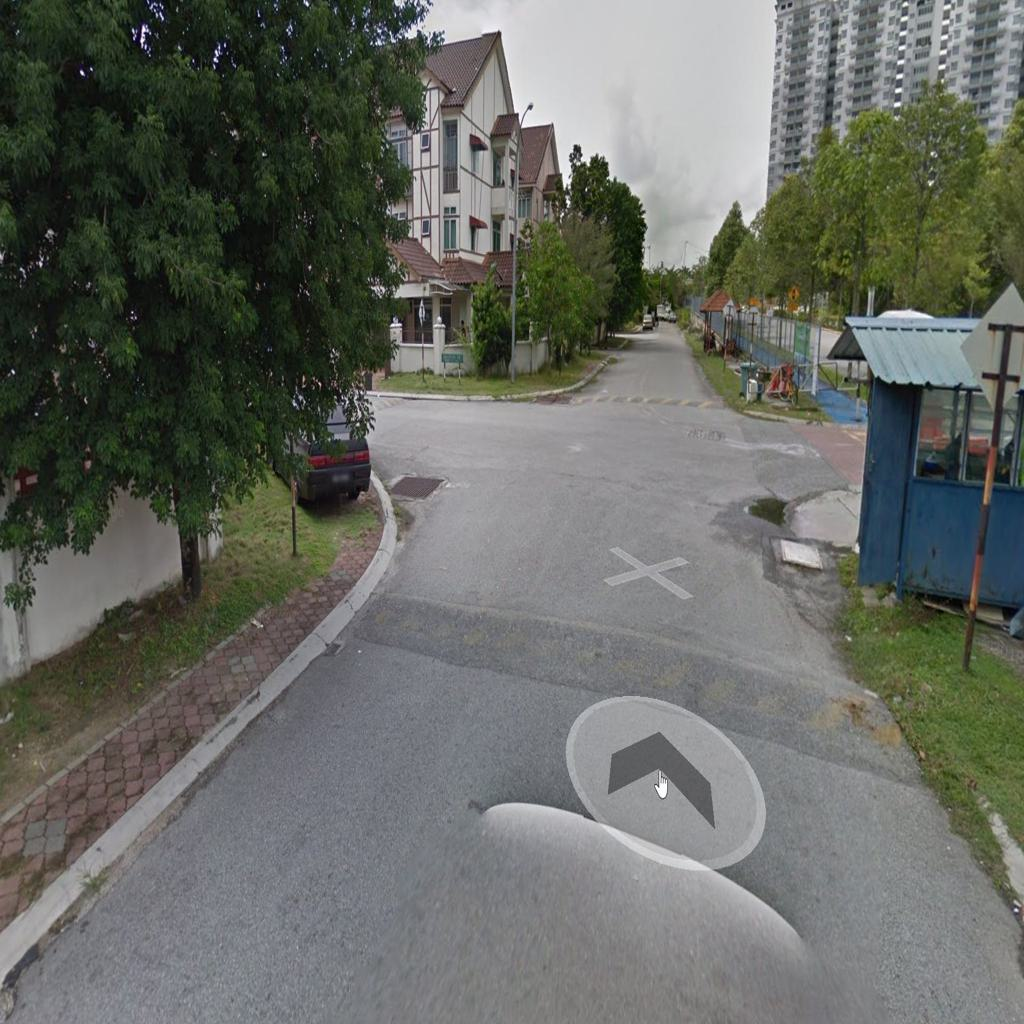Junction: (331, 374, 560, 574), (691, 379, 861, 559)
